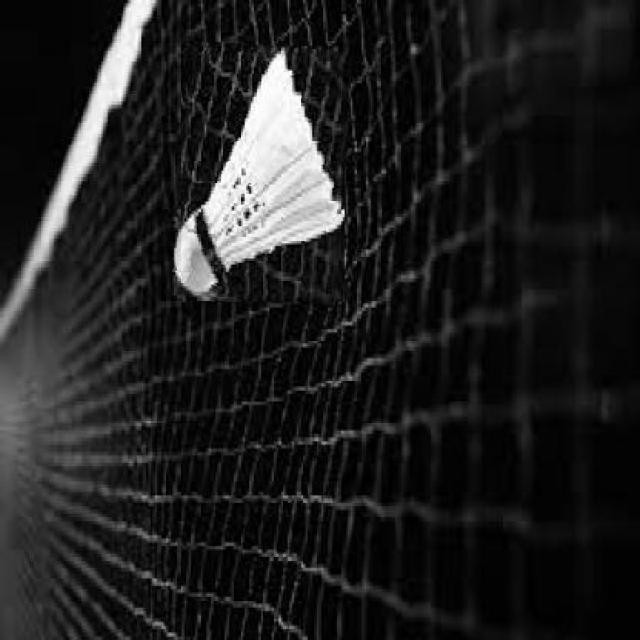Shuttlecock: (173, 47, 340, 296)
